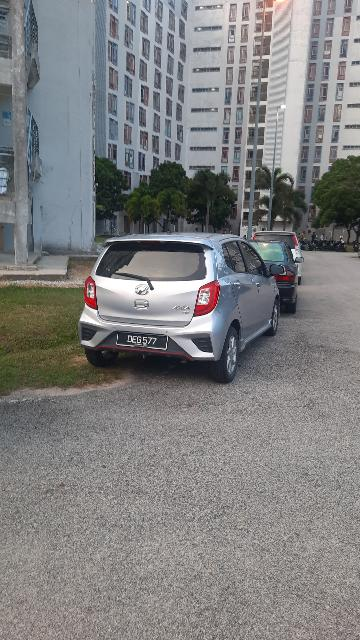License_Plate: (116, 329, 173, 353)
car: (77, 232, 283, 382)
